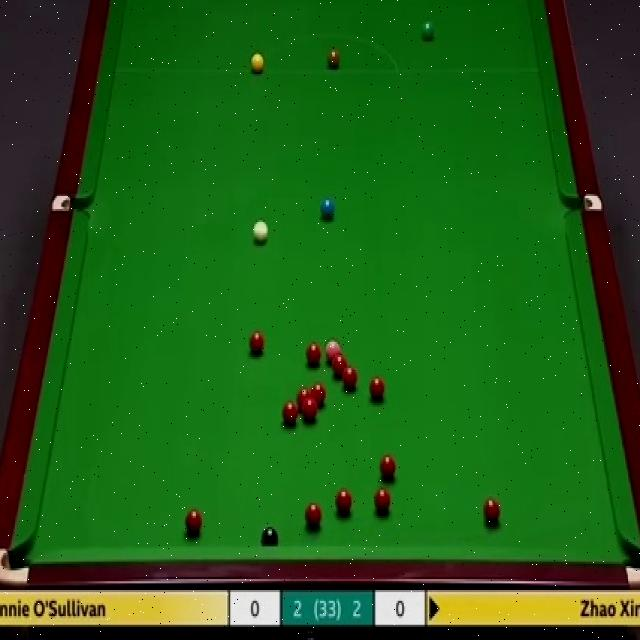black-ball: (264, 525, 282, 550)
blue-ball: (321, 199, 335, 220)
brown-ball: (326, 49, 339, 70)
green-ball: (420, 20, 436, 43)
pink-ball: (324, 337, 340, 362)
red-ball: (373, 486, 392, 516), (482, 496, 501, 525), (378, 453, 397, 482), (304, 503, 324, 529), (335, 486, 353, 514), (185, 507, 202, 534), (305, 340, 322, 367), (248, 328, 264, 356), (342, 367, 358, 394), (282, 400, 298, 426), (302, 395, 318, 421), (370, 376, 386, 401), (312, 382, 328, 406), (331, 354, 348, 375), (297, 387, 312, 406)
white-ball: (252, 218, 270, 246)
yellow-ball: (250, 50, 264, 74)
